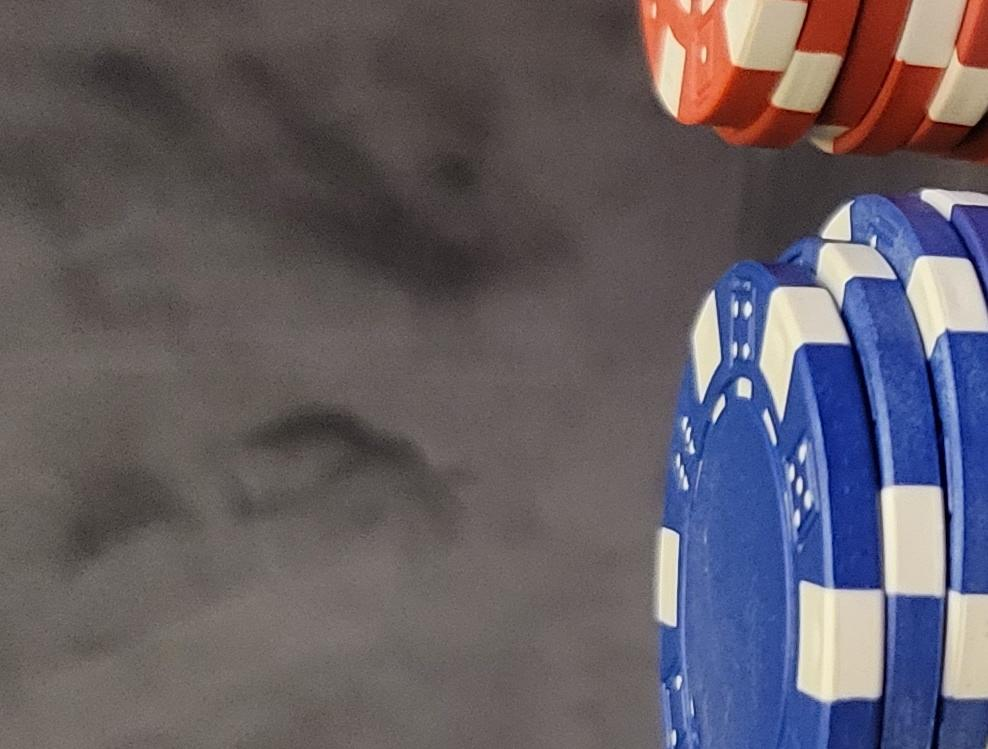Chip: (1, 336, 604, 749)
